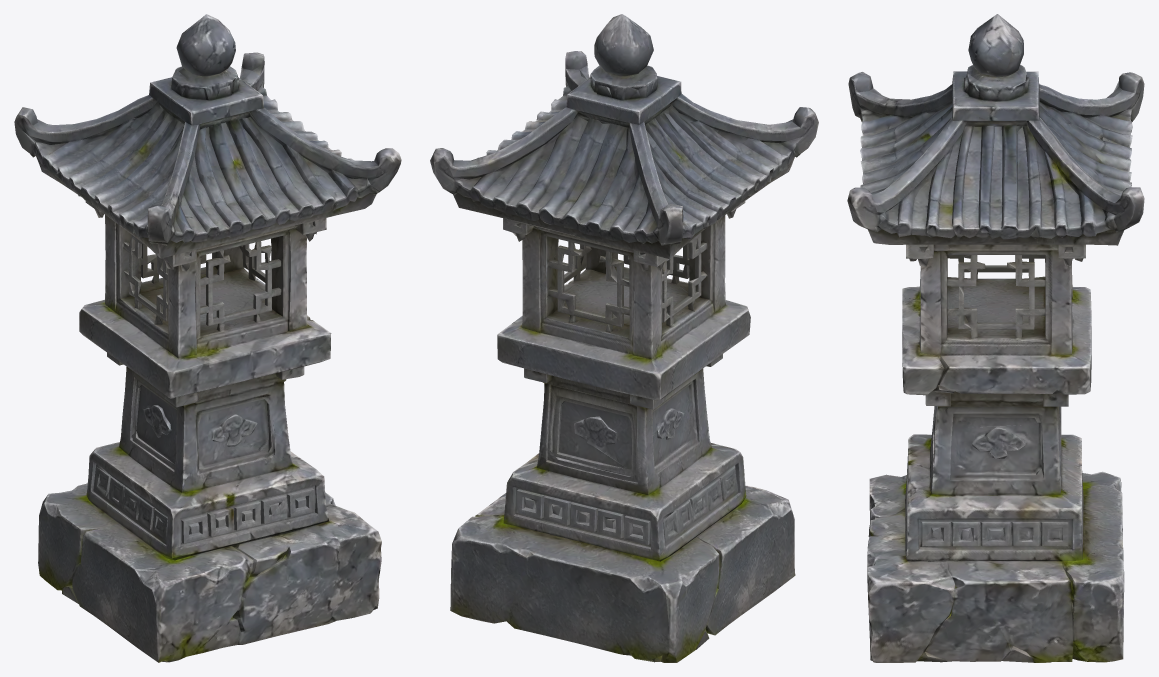
The model's file is lantern.glb.
3 renders of one model, left to right at view 1: azimuth 30°, elevation 25°; view 2: azimuth 150°, elevation 25°; view 3: azimuth 270°, elevation 25°, orthographic. The views are drawn at different scales.
Parts seen in each view (by area): view 1: model; view 2: model; view 3: model.
Boxes of the visible parts, x1,y1,x2,y2 form: model: [14, 14, 401, 662]; model: [430, 14, 818, 662]; model: [847, 14, 1144, 662].
Bounding box in the file's own units: 0.8673 × 1.91 × 0.8626.
Materials: 1 (1 with a texture image).
